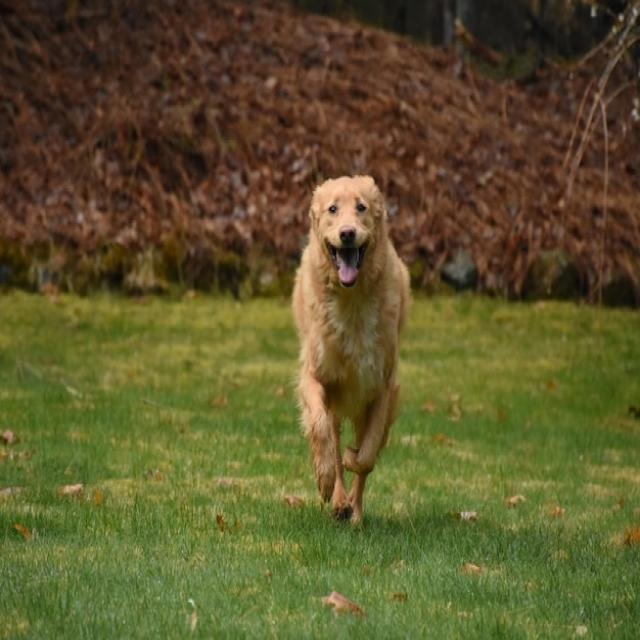Dog: (292, 177, 411, 525)
